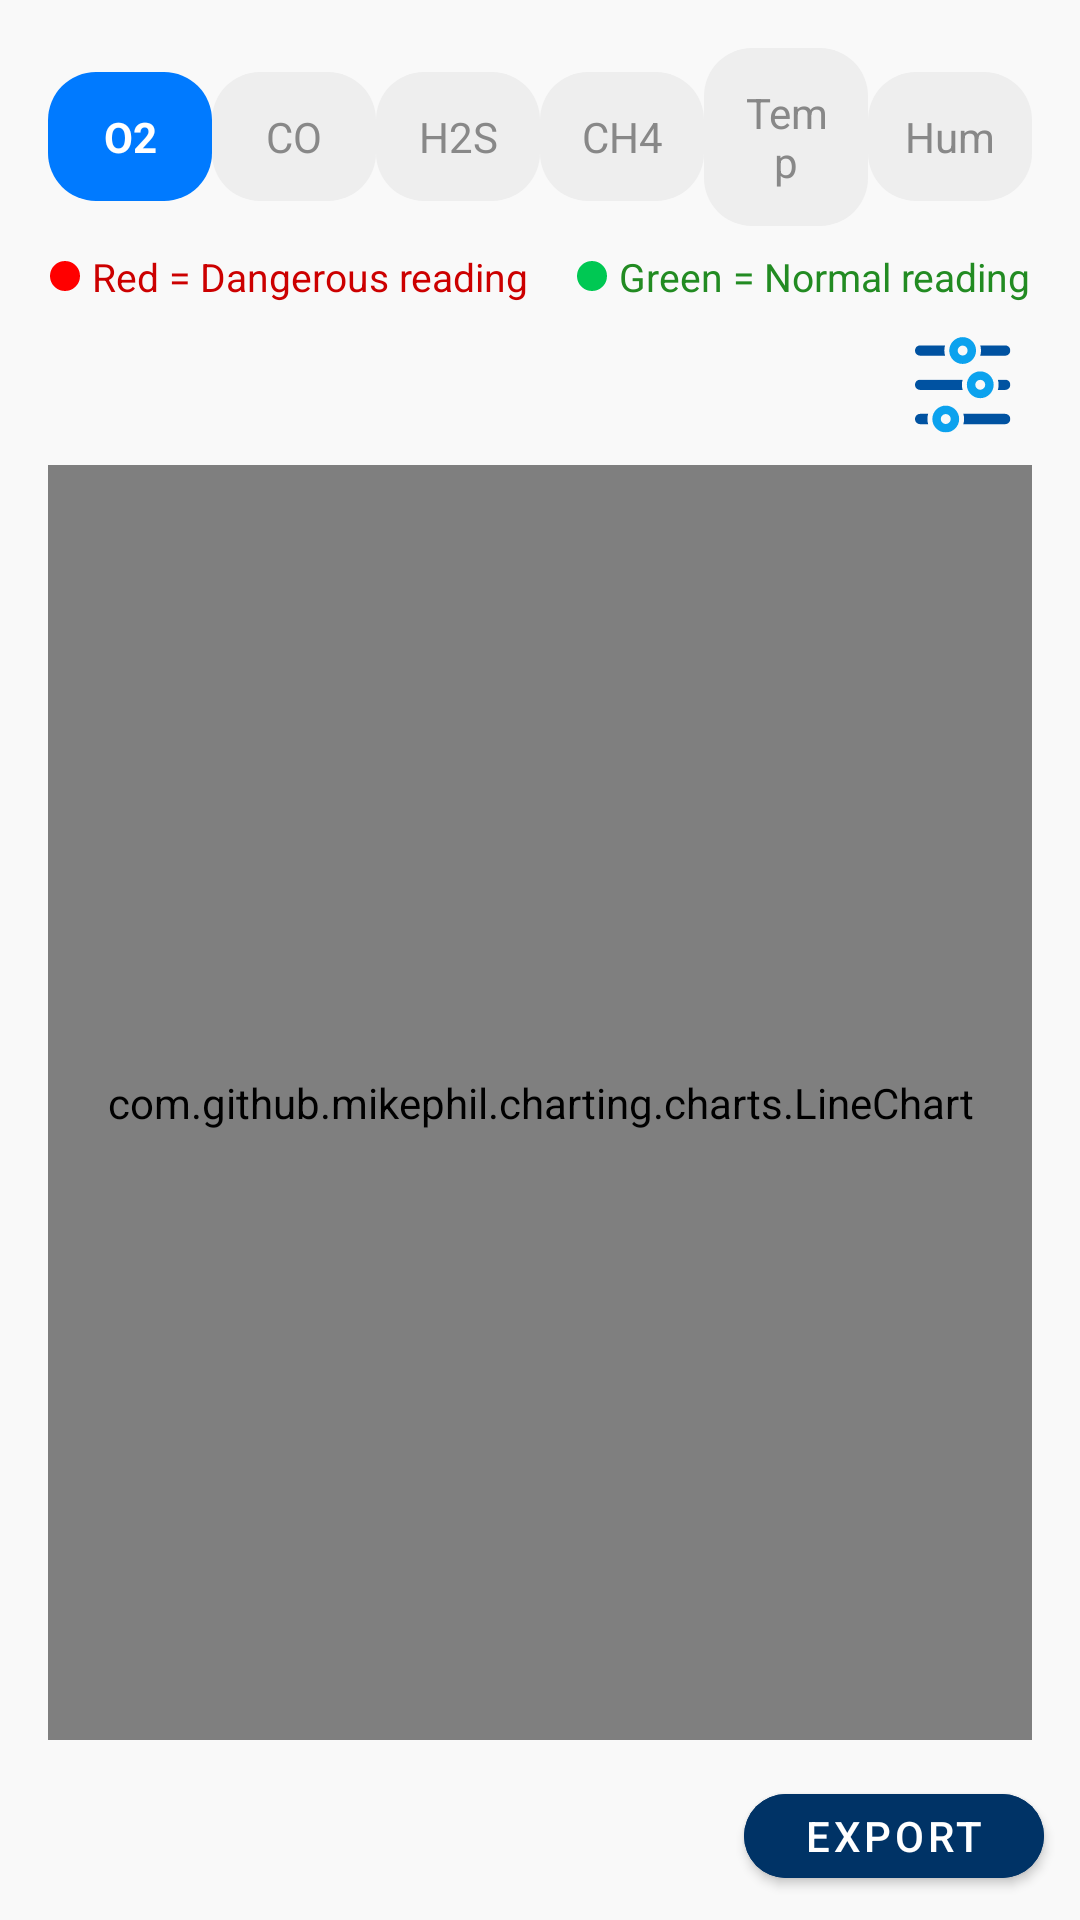

Icons on this 1080x1920 Android screen, each with its box as [left=x1, top=y1, right=x2, bottom=y2]:
Filter: [left=915, top=337, right=1011, bottom=433]
